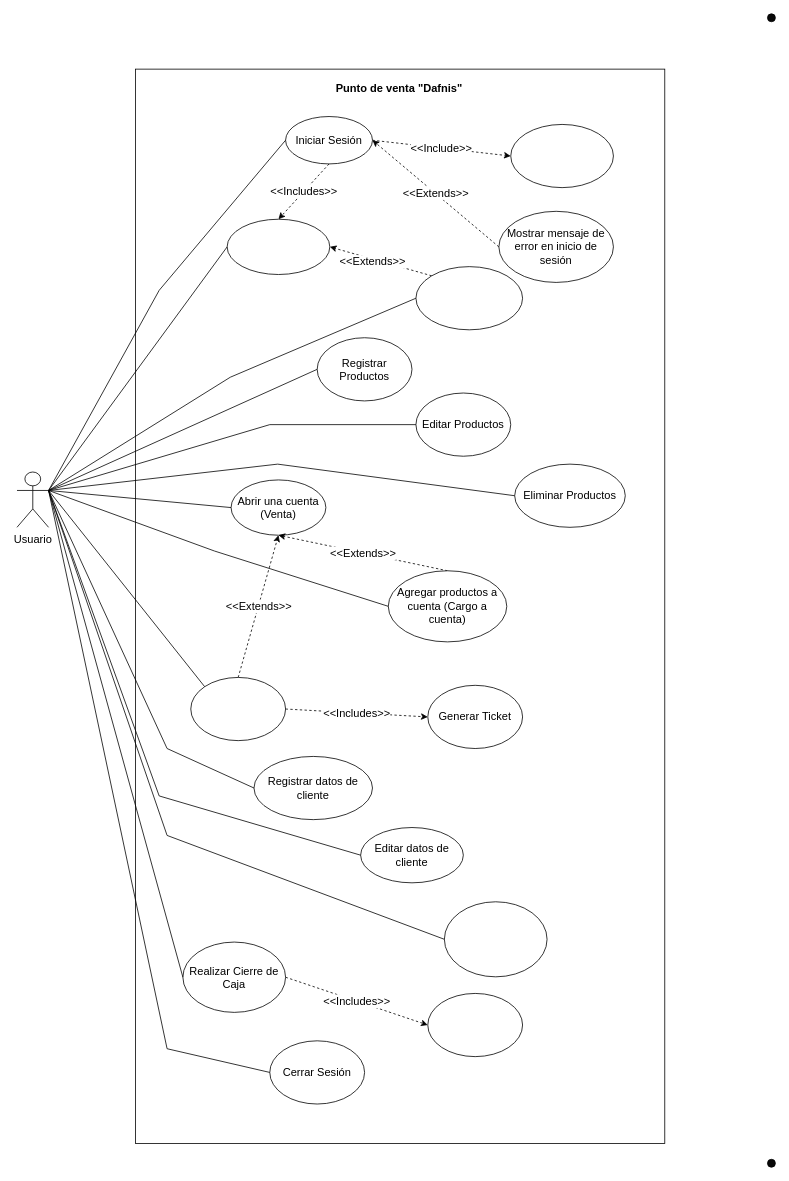
This 789x1181 diagram has some shape labels left out. The centre of each missing label's shape, as x and y in pixels:
"Cancelar acceso al sistema y regresar" belongs at point (469, 298).
"Cerrar Cuenta" belongs at point (238, 709).
"Eliminar datos de cliente" belongs at point (495, 939).
"Generar reporte de ventas del día" belongs at point (475, 1025).
"Registrar fondos iniciales para caja" belongs at point (278, 246).
"Verificar usuario y contraseña" belongs at point (561, 156).
